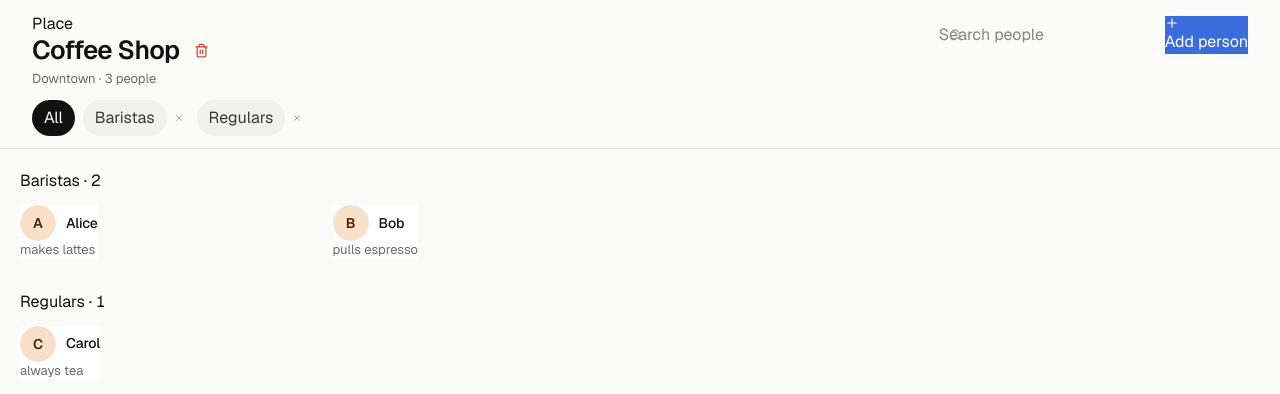
Test: LocationDetailContent › filters people when a group chip is selected
Click the button "Regulars". click: (241, 118)
box: [197,100,286,136]
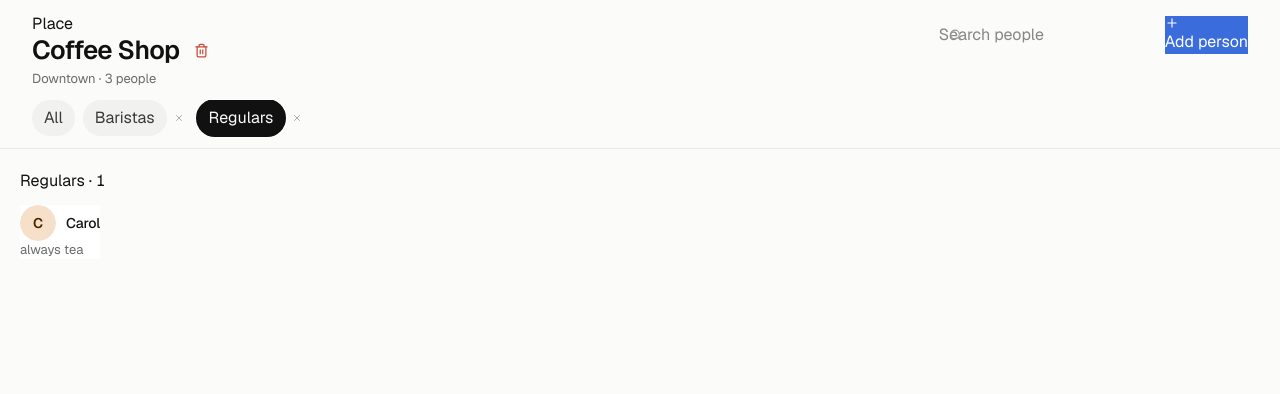
Expected: the text "Carol" is shown, [66,213,100,234]
Now the button "Alice" is gone
Now the button "Bob" is gone
